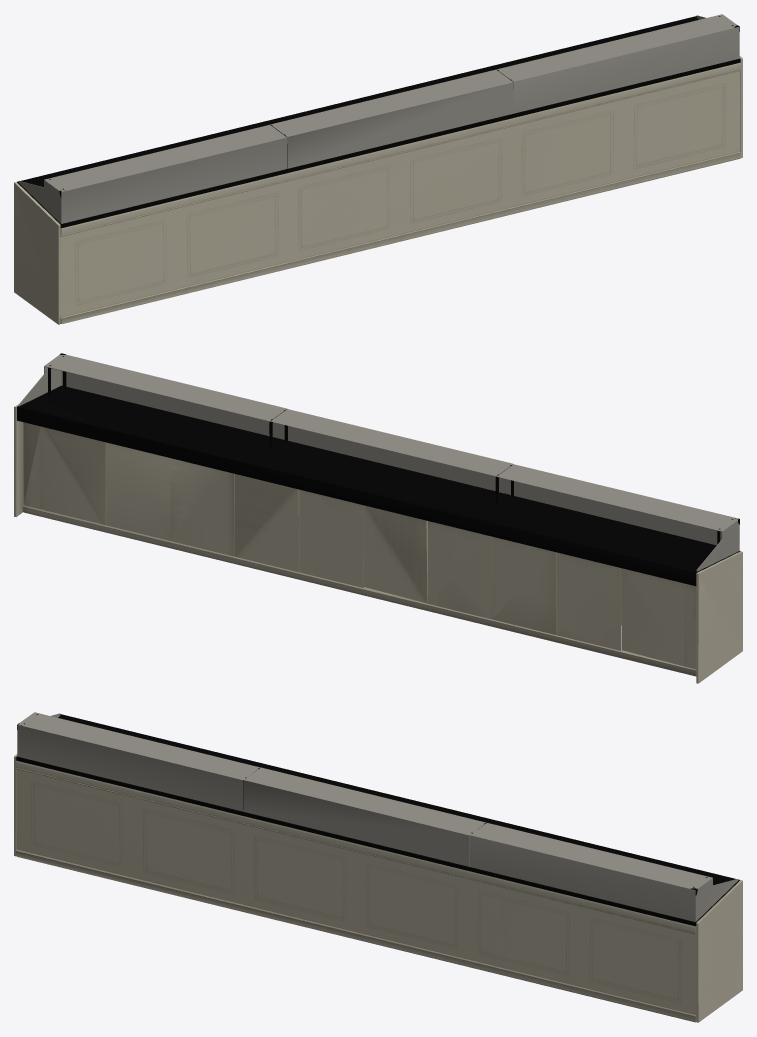
File: ripiano vendita.fbx
The picture shows the model from 3 angles, top to bottom: view 1: azimuth 30°, elevation 25°; view 2: azimuth 150°, elevation 25°; view 3: azimuth 330°, elevation 25°; orthographic projection.
Visible parts, largest first — view 1: ripiano_vendita; view 2: ripiano_vendita; view 3: ripiano_vendita.
Boxes of the visible parts, bbox=[...] form: ripiano_vendita: bbox=[14, 14, 742, 324]; ripiano_vendita: bbox=[14, 353, 742, 683]; ripiano_vendita: bbox=[14, 712, 742, 1022].
Bounding box in the file's own units: 576 × 106 × 65.43.
